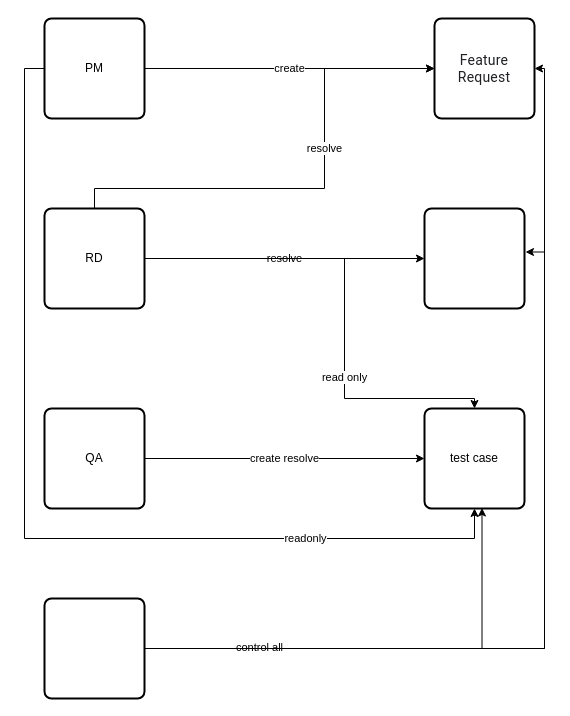
Image size: 570x716. Some labels were removed from this diagram. The shapes that lost their labels are listed below. From the top down, each one's centre as x and y in pixels, then its label:
At point 474,258: "bug".
At point 94,648: "Administrator".
